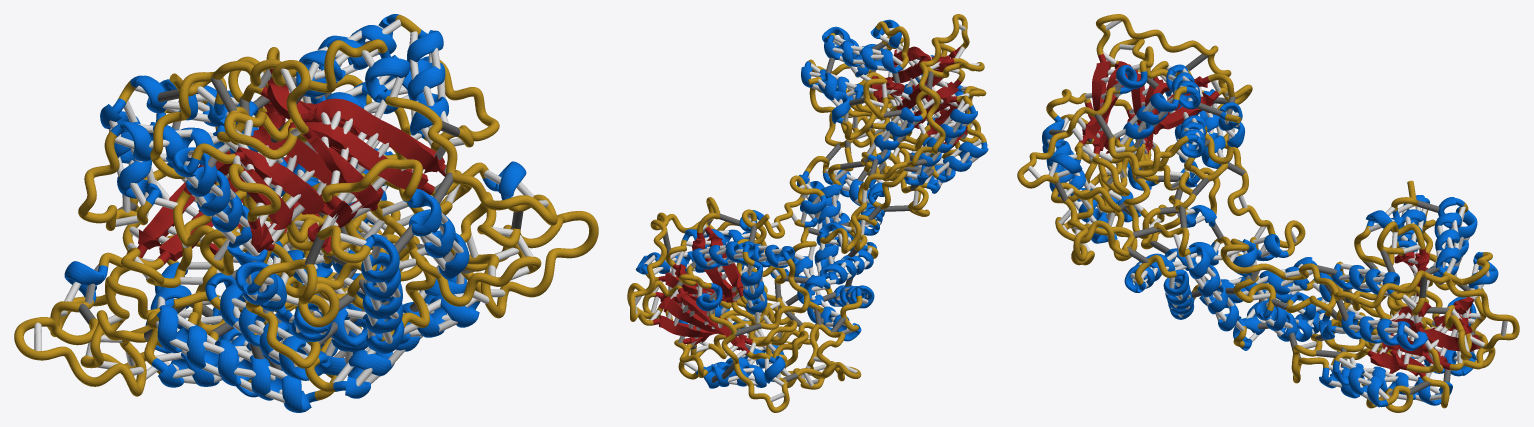
File: proteina_asm.glb
3 renders of one model, left to right at view 1: azimuth 30°, elevation 25°; view 2: azimuth 150°, elevation 25°; view 3: azimuth 270°, elevation 25°, orthographic. The views are drawn at different scales.
Visible parts, largest first — view 1: human-asm-5jg8-ribbon-thick-print_struts-secondary-pymesh; view 2: human-asm-5jg8-ribbon-thick-print_struts-secondary-pymesh; view 3: human-asm-5jg8-ribbon-thick-print_struts-secondary-pymesh.
Boxes of the visible parts, x1,y1,x2,y2 form: human-asm-5jg8-ribbon-thick-print_struts-secondary-pymesh: (14,14,598,412); human-asm-5jg8-ribbon-thick-print_struts-secondary-pymesh: (627,14,988,412); human-asm-5jg8-ribbon-thick-print_struts-secondary-pymesh: (1017,14,1519,412).
Size of the model in its own units: 70.72 by 84.93 by 116.
